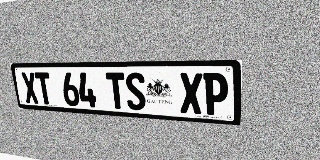4: (76, 72, 97, 108)
6: (60, 72, 80, 106)
P: (203, 73, 228, 116)
S: (124, 73, 147, 111)
T: (105, 72, 127, 109), (34, 72, 54, 105)
X: (179, 73, 203, 114), (21, 72, 40, 104)
